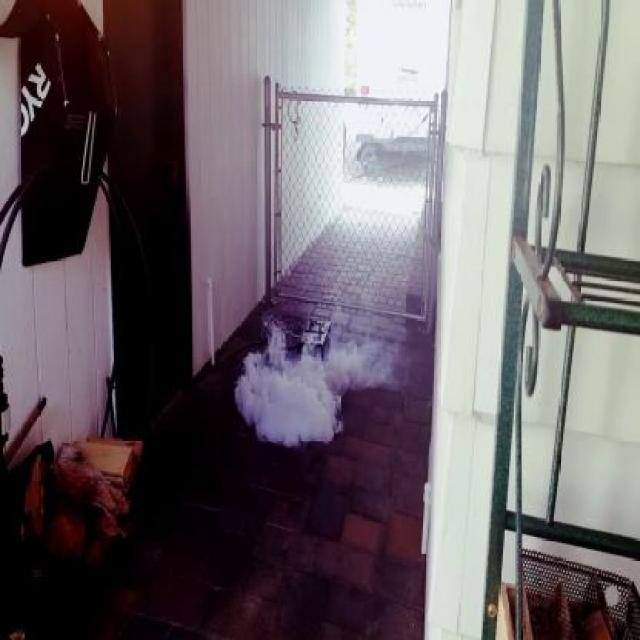smoke: (236, 318, 402, 449)
